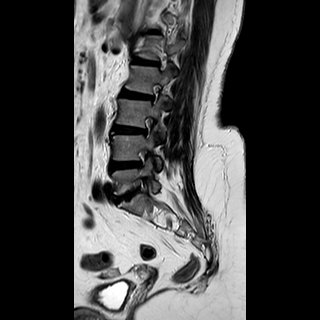LFS0: (144, 78, 167, 110)
